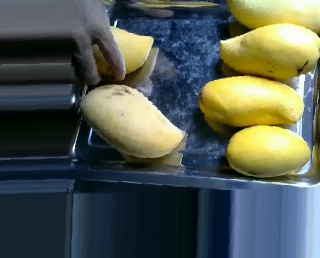Mango: (78, 82, 188, 163), (195, 71, 306, 133), (213, 24, 320, 80), (225, 120, 317, 182), (222, 0, 320, 37)
